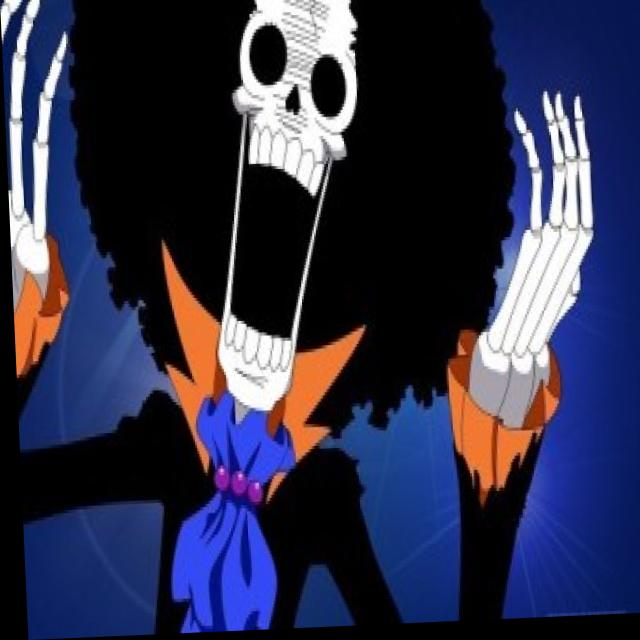Blook: (100, 0, 492, 466)
